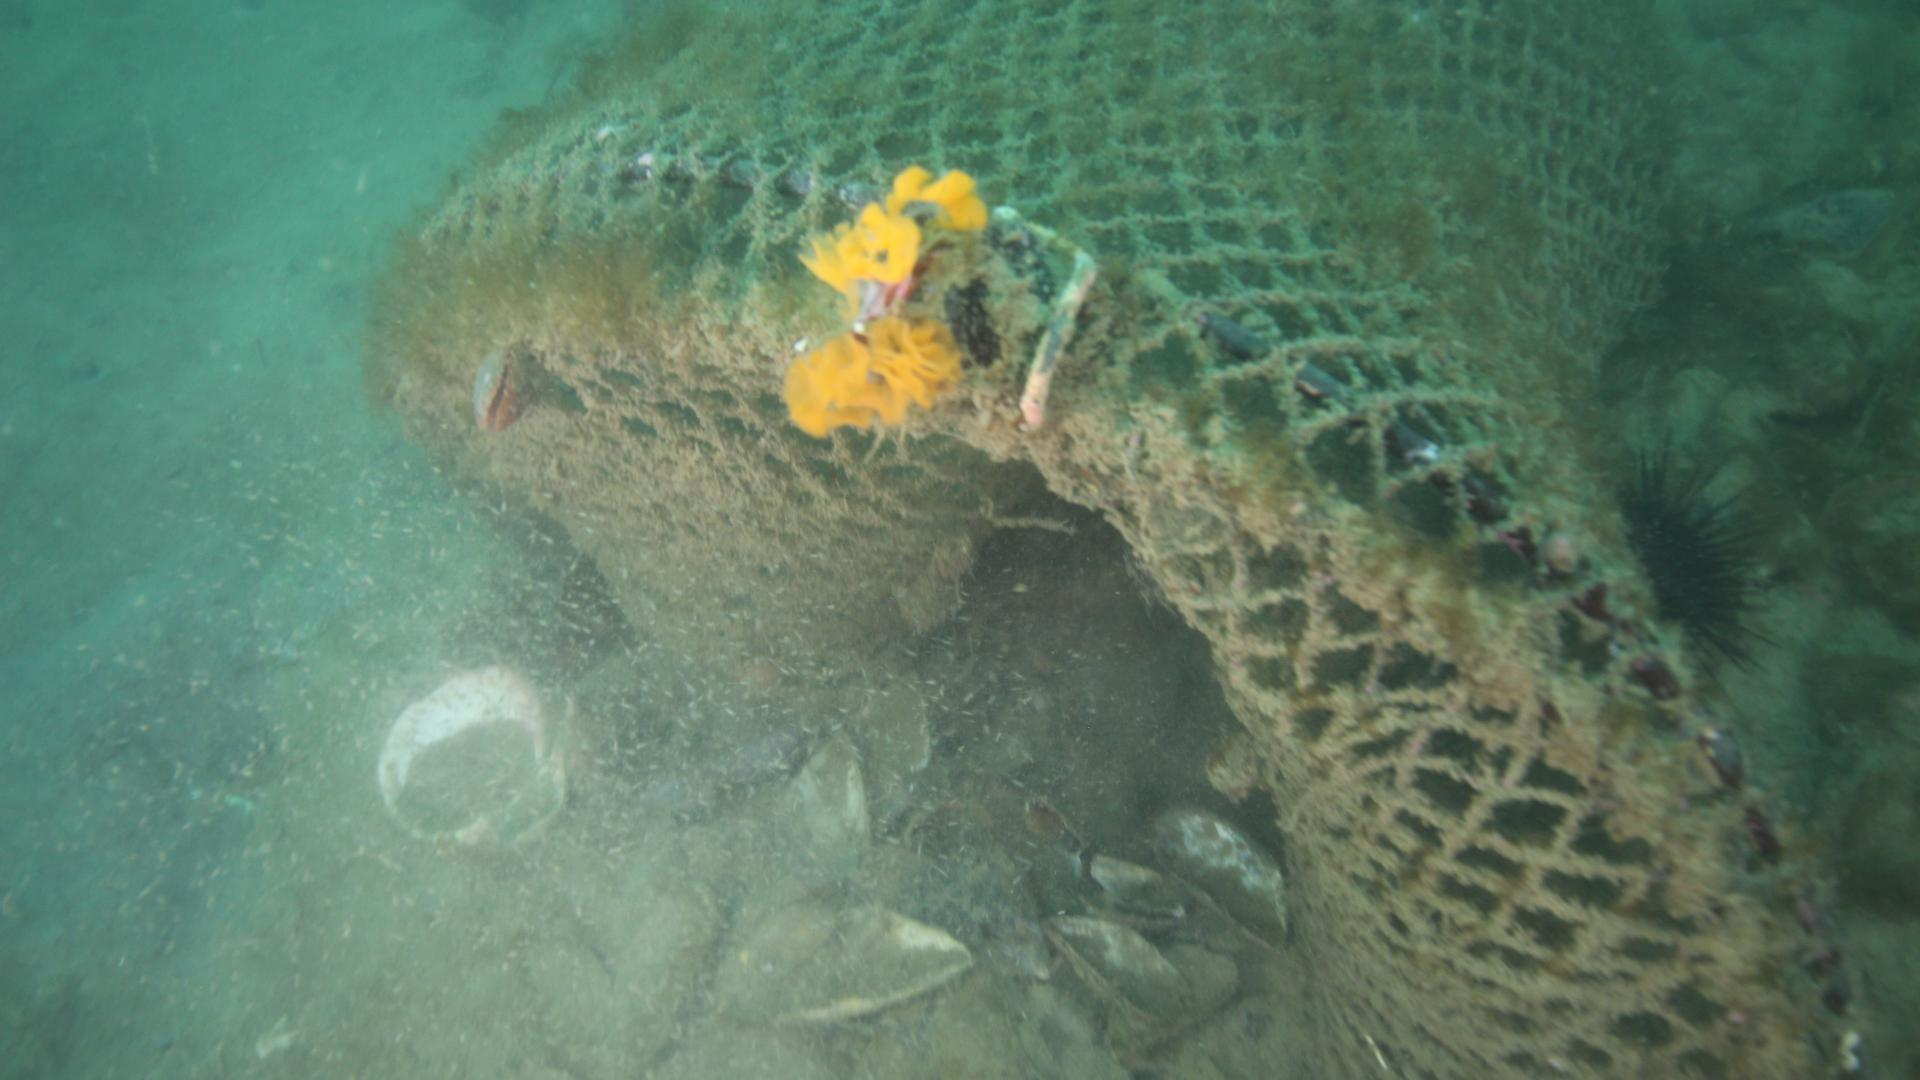spring fish trap: (363, 1, 1871, 1080)
